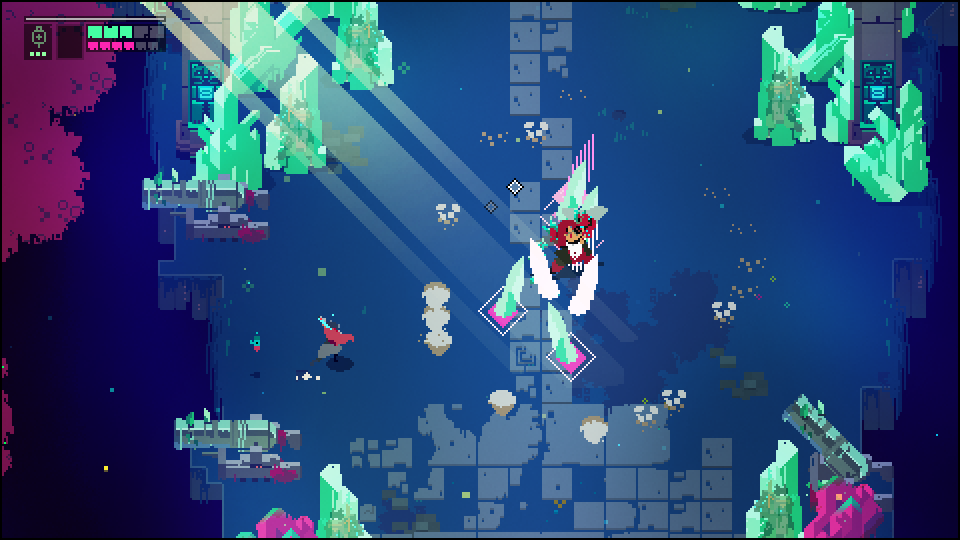hanged_crys: (546, 304, 577, 362), (499, 257, 525, 324), (530, 234, 557, 297), (565, 154, 585, 212)
hanged_man: (539, 206, 604, 263)
player: (310, 311, 354, 369)
